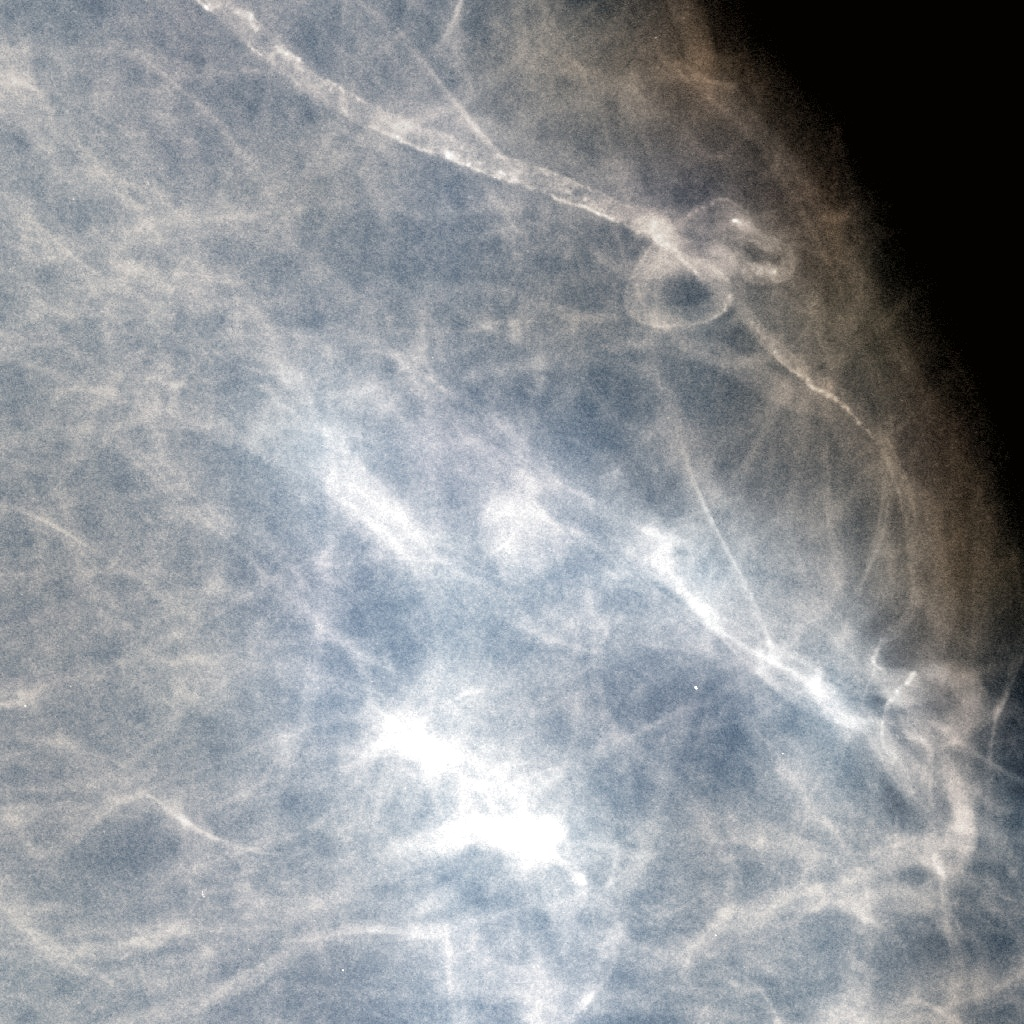tumor: (415, 408, 609, 616)
